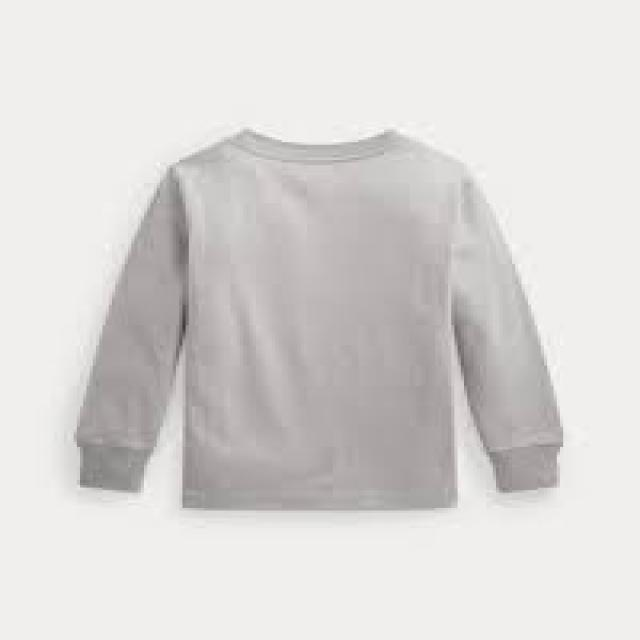plain: (68, 124, 565, 516)
